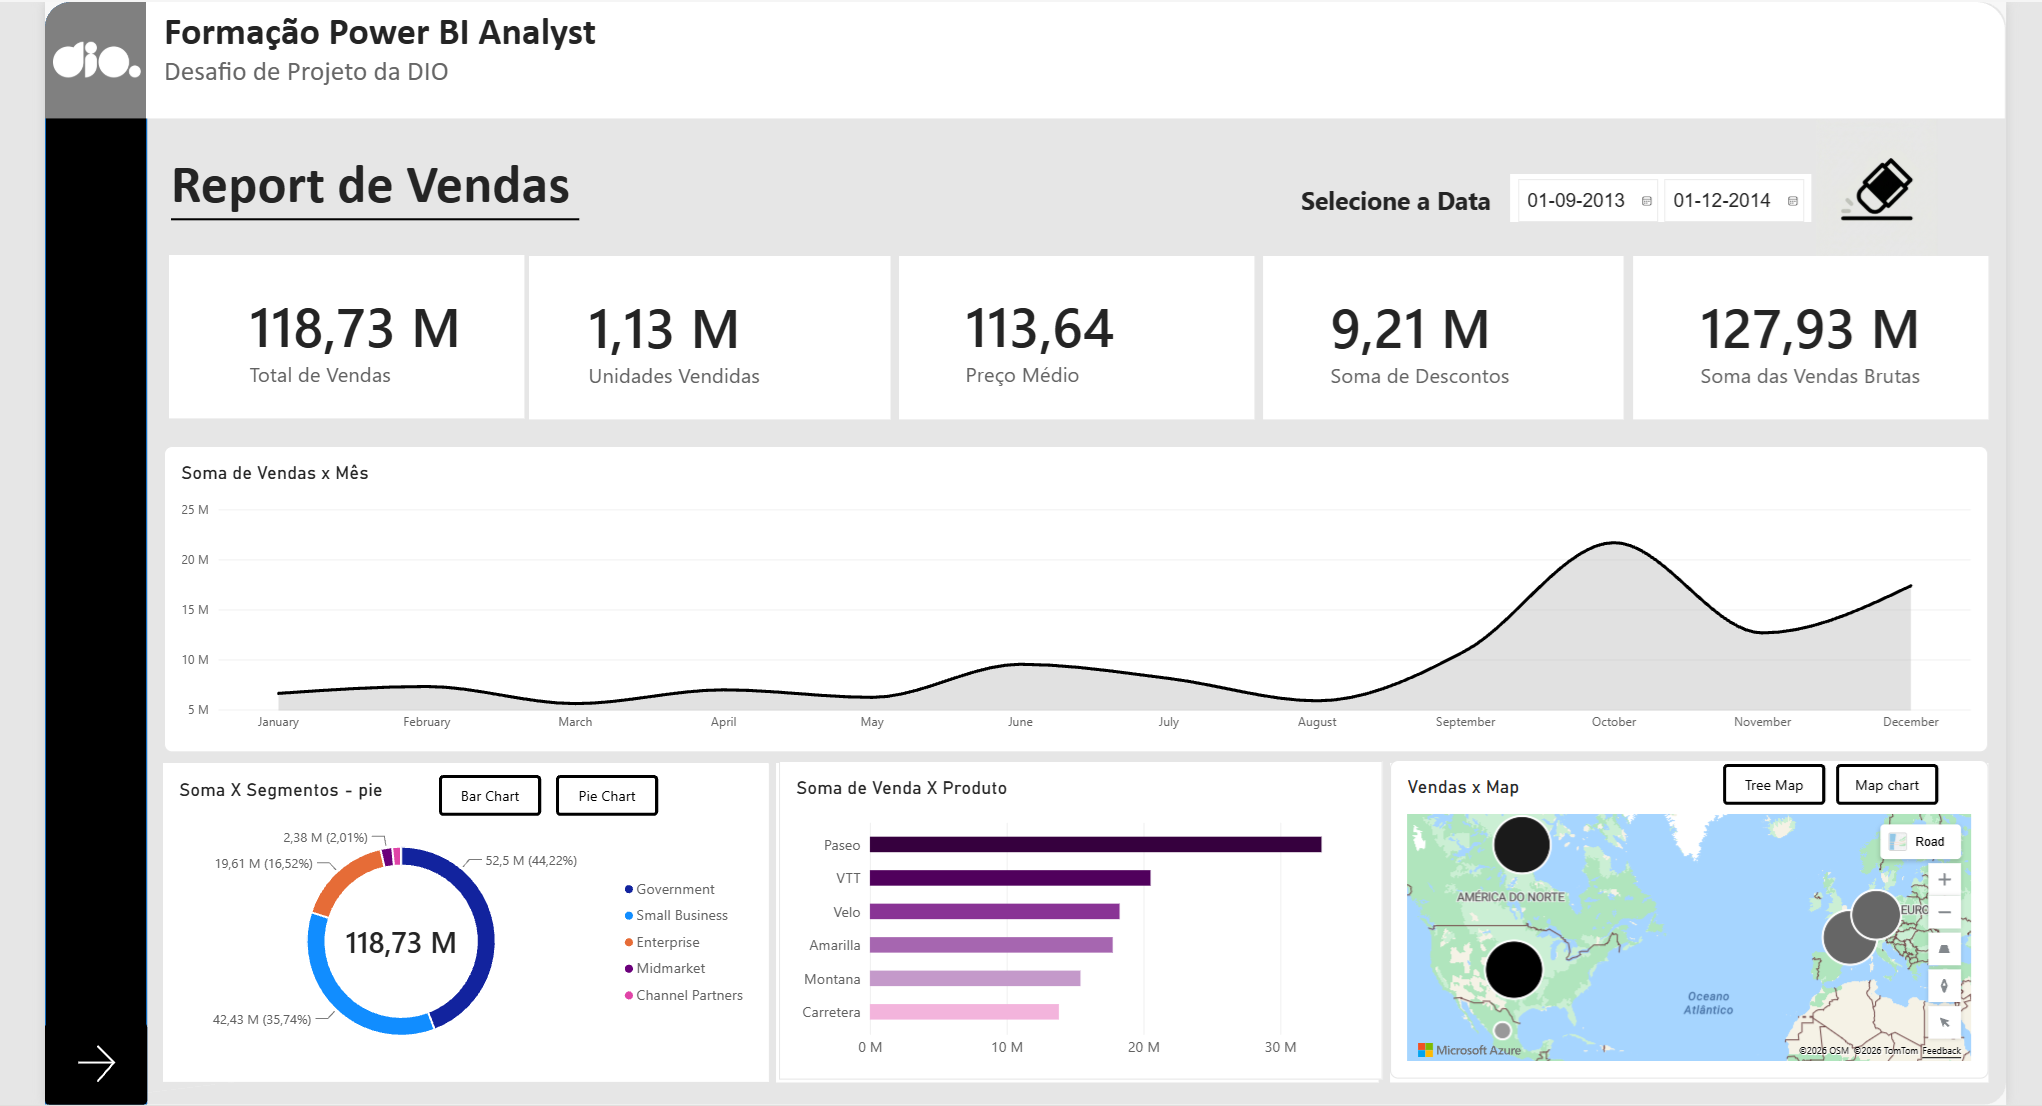

The dashboard page shown, as its layout file describes it:
{"tool":"powerbi","page":{"name":"Page 1","canvas":[1920,1080],"ordinal":0},"visuals":[{"type":"shape","title":"forma traço","box":[123,186.5,399.9,53.4],"z":0,"group":"g2"},{"type":"shape","box":[121.2,248.5,348.2,160.2],"z":0,"group":"g1"},{"type":"shape","title":"forma","box":[116.9,434.9,1785.5,297.6],"z":0},{"type":"treemap","title":"Vendas x TreeMap","fields":{"Group":["financials.Country"],"Values":["Sum(financials. Sales)"]},"box":[1316.8,744.4,585.8,312.8],"z":0,"group":"g4"},{"type":"shape","title":"forma","box":[0,0,1920,1079.5],"z":1000},{"type":"textbox","title":"titulo ","box":[123,145,699.4,90.3],"z":1000,"group":"g2"},{"type":"textbox","title":"caixa de texto","box":[1230.1,177.3,195.4,36.9],"z":1000,"group":"g3"},{"type":"shape","box":[473.5,249.4,354.2,160.2],"z":1000,"group":"g1"},{"type":"azureMap","title":"Vendas x Map","fields":{"Category":["financials.Country"],"Size":["Sum(financials. Sales)"]},"box":[1316.9,742.2,585.9,311.8],"z":1000,"group":"g4"},{"type":"barChart","title":"Vendas x Segmento - bar","fields":{"Category":["financials.Segment"],"Y":["Sum(financials. Sales)"]},"box":[115.7,744.9,593.4,311.8],"z":1906,"group":"g5"},{"type":"donutChart","title":"Soma X Segmentos - pie","fields":{"Category":["financials.Segment"],"Y":["Sum(financials. Sales)"]},"box":[115.7,746.1,593.3,311.1],"z":1953,"group":"g5"},{"type":"shape","title":"forma","box":[0,0,100,1079.5],"z":2000},{"type":"actionButton","title":"Clean","box":[1760.2,122.5,87.9,114.5],"z":2000,"group":"g3"},{"type":"shape","box":[836.2,249.4,348.2,160.2],"z":2000,"group":"g1"},{"type":"actionButton","title":"Botao - TreeMap","box":[1642.7,746.4,100,40],"z":2000,"group":"g4"},{"type":"actionButton","title":"Botao - Bar ","box":[386.4,756.4,100,40],"z":2000,"group":"g5"},{"type":"shape","title":"forma","box":[0,0,100,114.5],"z":2250},{"type":"shape","title":"forma","box":[99.2,0,1820.5,114.5],"z":2500},{"type":"slicer","title":"data","fields":{"Values":["financials.Date"]},"box":[1434.7,168.1,294.8,46.9],"z":2500,"group":"g3"},{"type":"shape","box":[1192.8,249.4,353,160.2],"z":3000,"group":"g1"},{"type":"shape","title":"caixa em branco produtos","box":[715.9,745,590.2,312.8],"z":3000},{"type":"actionButton","title":"Botao - Map","box":[1753.6,746.4,100,40],"z":3000,"group":"g4"},{"type":"actionButton","title":"Botao - Pie ","box":[500.9,756.4,100,40],"z":3000,"group":"g5"},{"type":"shape","box":[1554.2,249.4,348.2,160.2],"z":4000,"group":"g1"},{"type":"clusteredBarChart","title":"Soma de Venda X Produto","fields":{"Category":["financials.Product"],"Y":["Sum(financials. Sales)"]},"box":[718.6,743.4,590.8,311.5],"z":4000},{"type":"cardVisual","fields":{"Data":["Sum(financials.Discounts)"]},"box":[1192.8,214.5,348.2,231.3],"z":5000,"group":"g1"},{"type":"cardVisual","fields":{"Data":["Sum(financials. Sales)"]},"box":[133.6,213.9,348.2,231.3],"z":6000,"group":"g1"},{"type":"cardVisual","fields":{"Data":["Sum(financials.Units Sold)"]},"box":[465.4,214.7,434.1,231.2],"z":7000,"group":"g1"},{"type":"shape","title":"caixa em branco Segmentos ","box":[116.8,744.9,592.2,312.3],"z":7000},{"type":"cardVisual","fields":{"Data":["financials.Preço Médio"]},"box":[835.3,214.1,348.2,231.3],"z":8000,"group":"g1"},{"type":"areaChart","title":"Soma de Vendas x Mês","fields":{"Category":["financials.Date.Variation.Date Hierarchy.Month"],"Y":["Sum(financials. Sales)"]},"box":[116.9,434.9,1785.5,300],"z":8000},{"type":"cardVisual","fields":{"Data":["Sum(financials.Gross Sales)"]},"box":[1554.2,214.5,348.2,231.3],"z":9000,"group":"g1"},{"type":"shape","title":"soma de venda map","box":[1316.9,745,585.9,312.8],"z":9000},{"type":"textbox","title":"Enunciado","box":[116.6,4.7,592.2,105.5],"z":10000},{"type":"image","title":"borracha","box":[1685.5,114.5,216.9,134.9],"z":11000},{"type":"group","id":"g1","title":"Cartoes","box":[121.2,213.9,1781.2,232],"z":12000},{"type":"group","id":"g2","title":"Titulo Report","box":[123,145,699.4,94.9],"z":13000},{"type":"actionButton","title":"Seta proxima pagina","box":[0,1000,100,80],"z":14000},{"type":"group","id":"g3","title":"Filtro por data","box":[1230.1,122.5,618,114.5],"z":15250},{"type":"group","id":"g4","title":"Sales e pais","box":[1316.8,742.2,586,314.9],"z":16500},{"type":"group","id":"g5","title":"Vendas e segmentos","box":[115.7,744.9,593.4,312.3],"z":16750},{"type":"image","box":[7.5,4.3,86,105.3],"z":17000}]}

Visuals, with their boxes on the page's 1920x1080 design canvas (x1, y1, x2, y2). These are canvas units, not pixel positions in the 2042x1106 screenshot, which may show the page scaled, cropped or inside an application window:
"forma traço" shape: x1=123, y1=186, x2=523, y2=240
shape: x1=121, y1=248, x2=469, y2=409
"forma" shape: x1=117, y1=435, x2=1902, y2=732
"Vendas x TreeMap" treemap: x1=1317, y1=744, x2=1903, y2=1057
"forma" shape: x1=0, y1=0, x2=1920, y2=1080
"titulo " textbox: x1=123, y1=145, x2=822, y2=235
"caixa de texto" textbox: x1=1230, y1=177, x2=1426, y2=214
shape: x1=474, y1=249, x2=828, y2=410
"Vendas x Map" azureMap: x1=1317, y1=742, x2=1903, y2=1054
"Vendas x Segmento - bar" barChart: x1=116, y1=745, x2=709, y2=1057
"Soma X Segmentos - pie" donutChart: x1=116, y1=746, x2=709, y2=1057
"forma" shape: x1=0, y1=0, x2=100, y2=1080
"Clean" actionButton: x1=1760, y1=122, x2=1848, y2=237
shape: x1=836, y1=249, x2=1184, y2=410
"Botao - TreeMap" actionButton: x1=1643, y1=746, x2=1743, y2=786
"Botao - Bar " actionButton: x1=386, y1=756, x2=486, y2=796
"forma" shape: x1=0, y1=0, x2=100, y2=114
"forma" shape: x1=99, y1=0, x2=1920, y2=114
"data" slicer: x1=1435, y1=168, x2=1730, y2=215
shape: x1=1193, y1=249, x2=1546, y2=410
"caixa em branco produtos" shape: x1=716, y1=745, x2=1306, y2=1058
"Botao - Map" actionButton: x1=1754, y1=746, x2=1854, y2=786
"Botao - Pie " actionButton: x1=501, y1=756, x2=601, y2=796
shape: x1=1554, y1=249, x2=1902, y2=410
"Soma de Venda X Produto" clusteredBarChart: x1=719, y1=743, x2=1309, y2=1055
cardVisual - Sum(financials.Discounts): x1=1193, y1=214, x2=1541, y2=446
cardVisual - Sum(financials. Sales): x1=134, y1=214, x2=482, y2=445
cardVisual - Sum(financials.Units Sold): x1=465, y1=215, x2=900, y2=446
"caixa em branco Segmentos " shape: x1=117, y1=745, x2=709, y2=1057
cardVisual - financials.Preço Médio: x1=835, y1=214, x2=1184, y2=445
"Soma de Vendas x Mês" areaChart: x1=117, y1=435, x2=1902, y2=735
cardVisual - Sum(financials.Gross Sales): x1=1554, y1=214, x2=1902, y2=446
"soma de venda map" shape: x1=1317, y1=745, x2=1903, y2=1058
"Enunciado" textbox: x1=117, y1=5, x2=709, y2=110
"borracha" image: x1=1686, y1=114, x2=1902, y2=249
"Cartoes" group: x1=121, y1=214, x2=1902, y2=446
"Titulo Report" group: x1=123, y1=145, x2=822, y2=240
"Seta proxima pagina" actionButton: x1=0, y1=1000, x2=100, y2=1080
"Filtro por data" group: x1=1230, y1=122, x2=1848, y2=237
"Sales e pais" group: x1=1317, y1=742, x2=1903, y2=1057
"Vendas e segmentos" group: x1=116, y1=745, x2=709, y2=1057
image: x1=8, y1=4, x2=94, y2=110
